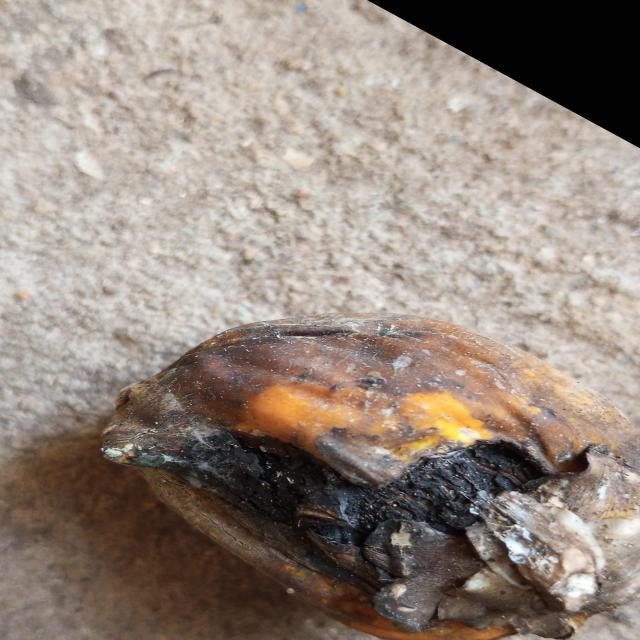damaged: (96, 315, 640, 640)
